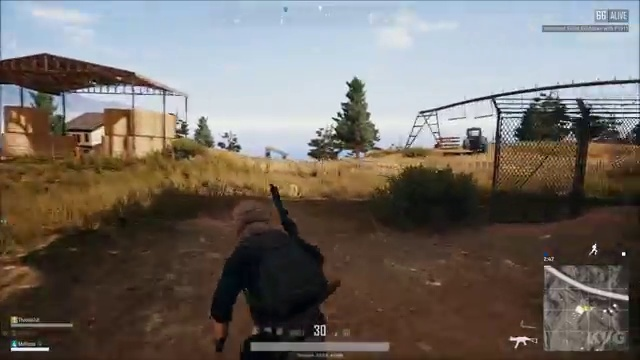Player: (203, 179, 353, 321)
